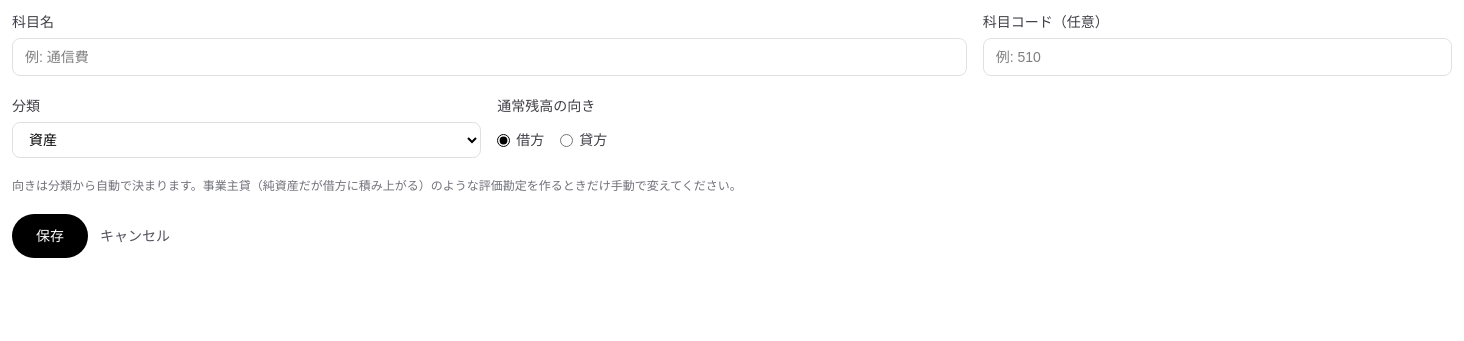
Test case: AccountForm › アクションがエラーを返すと画面に表示される
This screenshot has width=1464, height=341.
Type "現金" into the field labelled "科目名". click: (489, 57)
box: [12,38,967,76]
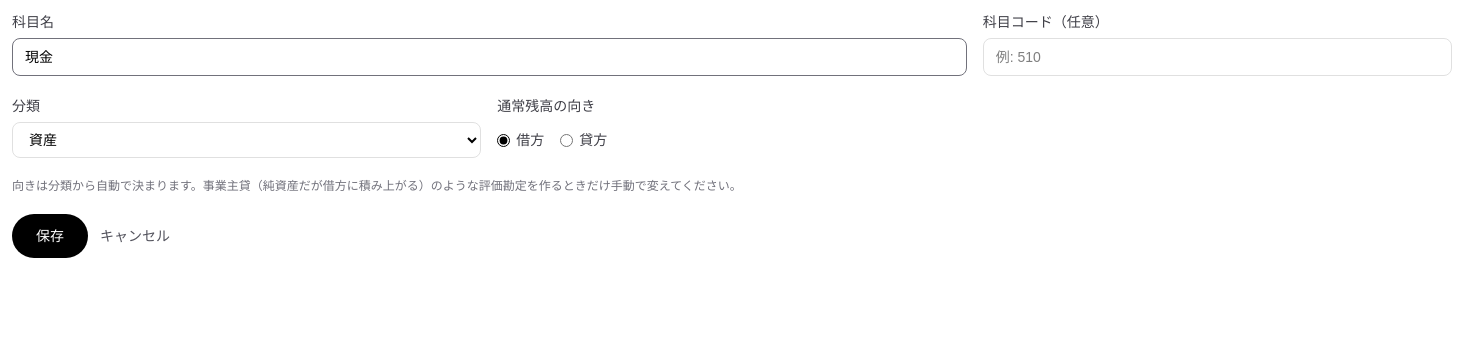
Click the button "保存". click: (50, 236)
box: [12,214,88,258]
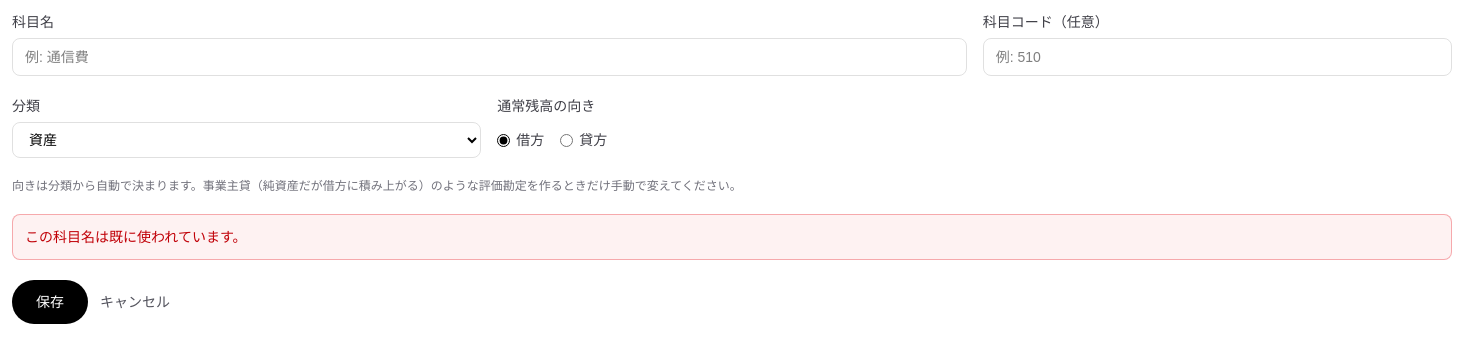
Expected: the list item "この科目名は既に使われています。" is shown, [25,229,246,245]
